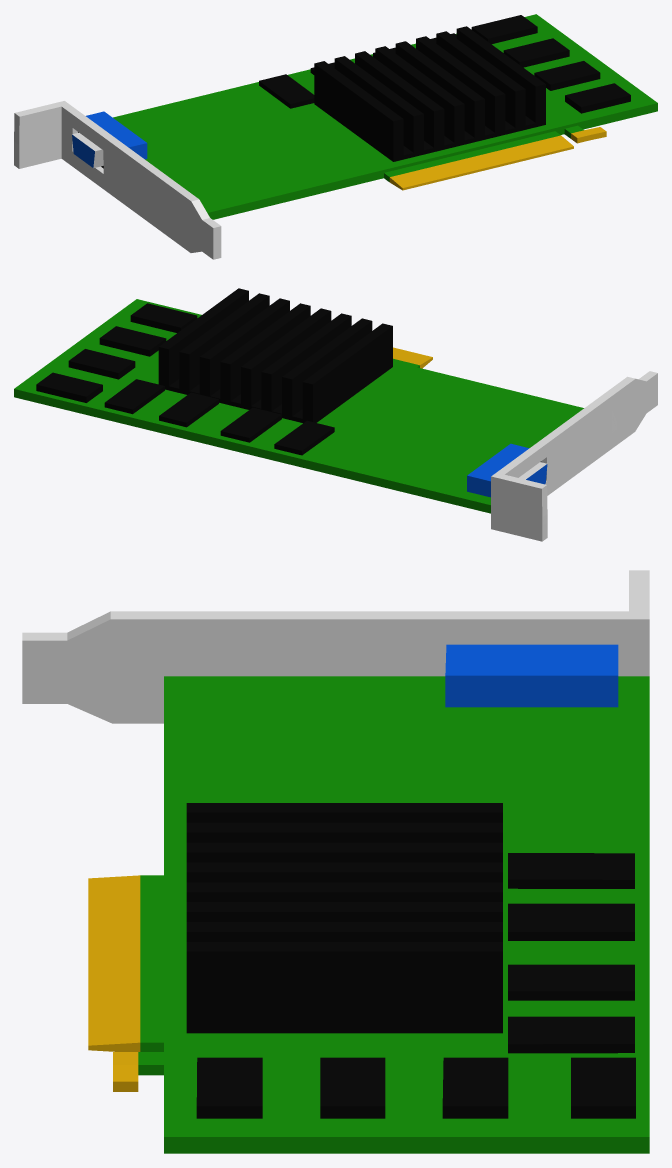
The model's file is riva-tnt2.fbx.
The picture shows the model from 3 angles, top to bottom: view 1: azimuth 30°, elevation 25°; view 2: azimuth 150°, elevation 25°; view 3: azimuth 270°, elevation 25°; orthographic projection. The views are drawn at different scales.
Visible parts, largest first — view 1: Plane.001; view 2: Plane.001; view 3: Plane.001.
Boxes of the visible parts, bbox=[...] form: Plane.001: bbox=[14, 14, 657, 259]; Plane.001: bbox=[14, 288, 657, 541]; Plane.001: bbox=[22, 570, 649, 1153].
Size of the model in its own units: 147 by 17.28 by 76.36.
